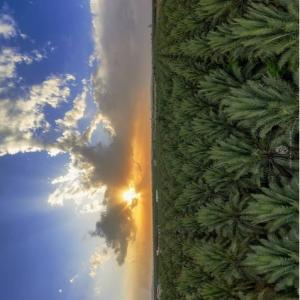palm tree: (153, 0, 299, 300)
